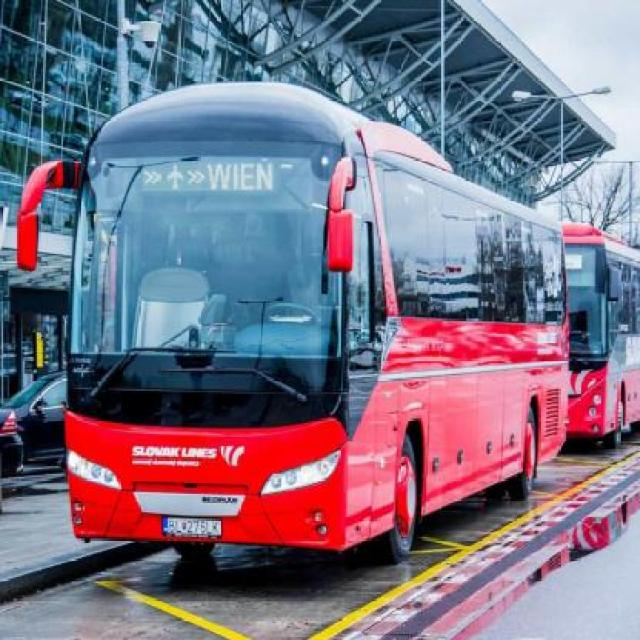bus: (17, 78, 570, 567)
